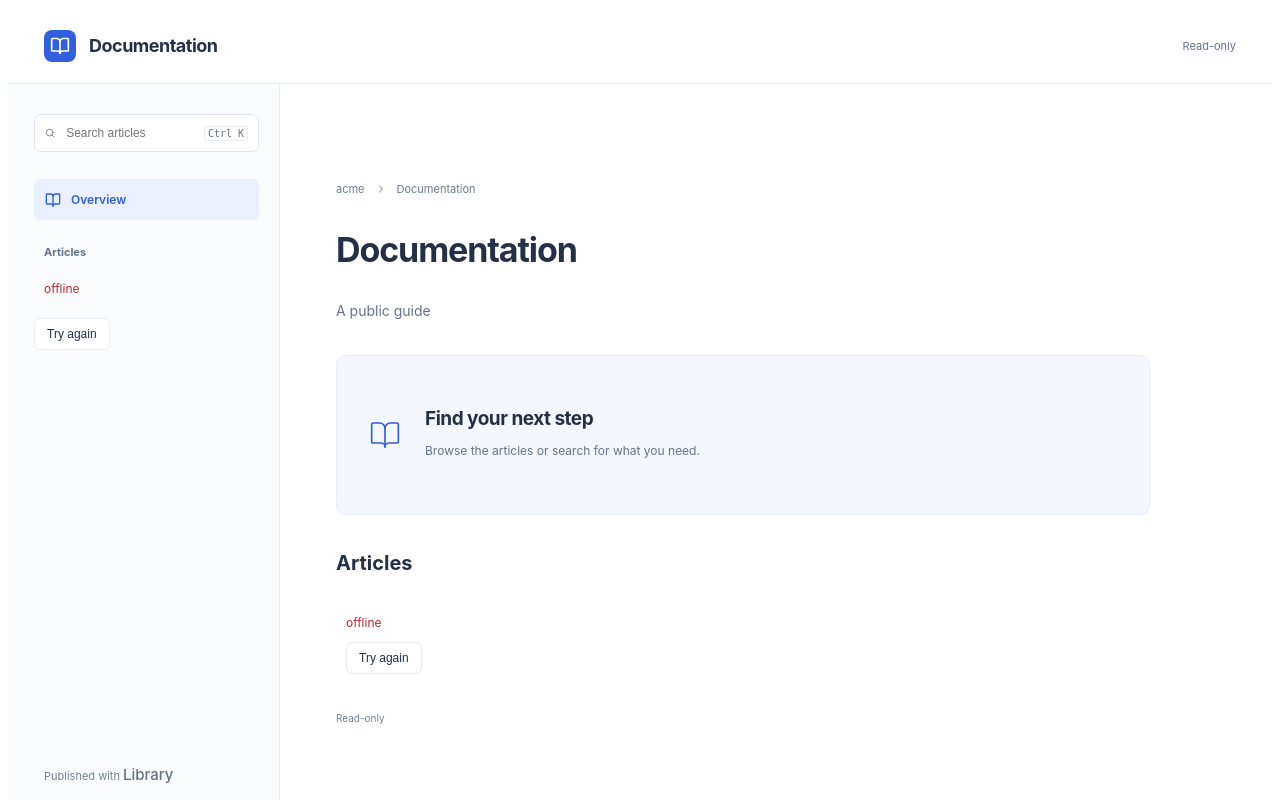
Scenario: public docs reader › shows list failures and a working retry in the overview
Expected: the message "offline Try again" is shown, [346,615,422,674]
Click the button "Try again" below "Find your next step" at {"x": 384, "y": 658}, box [346,642,422,674]
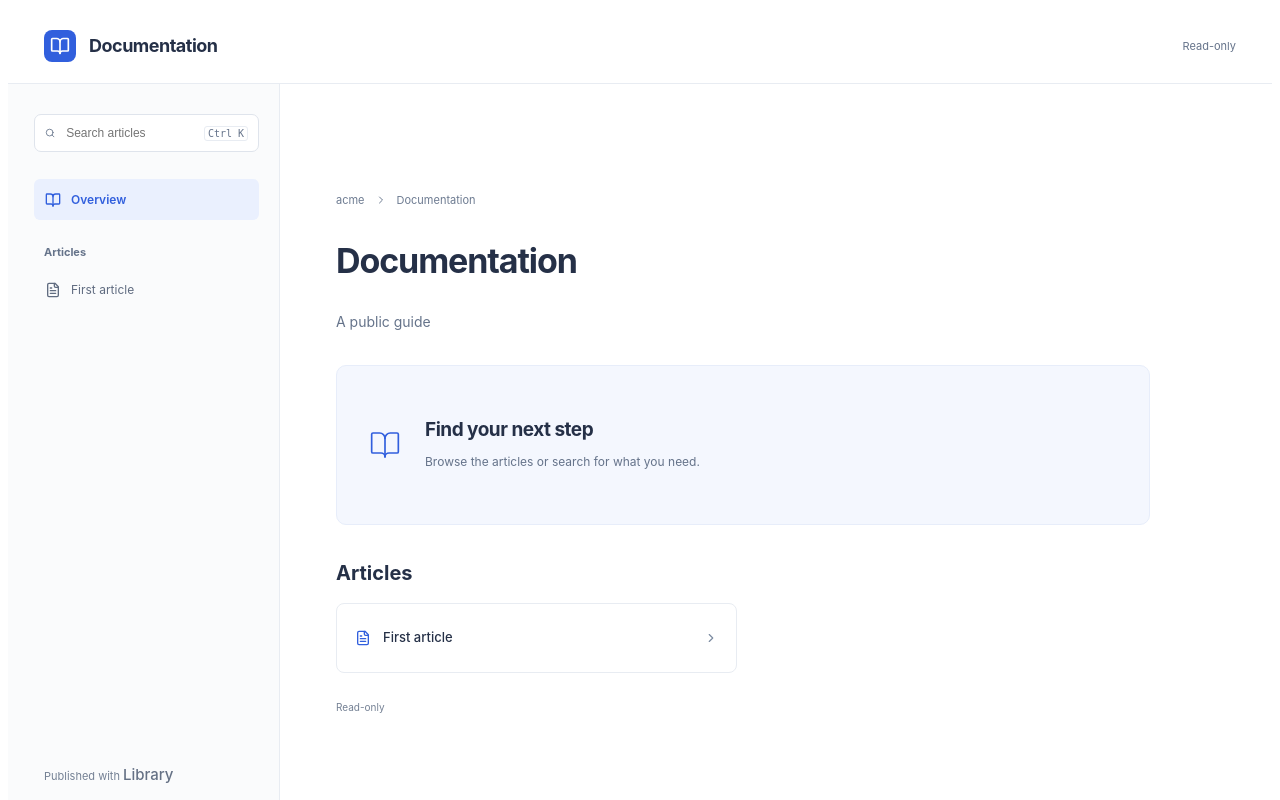
Result: the message "offline" is gone
Result: the link "First article" below "Find your next step" is shown at [336,604,737,673]
